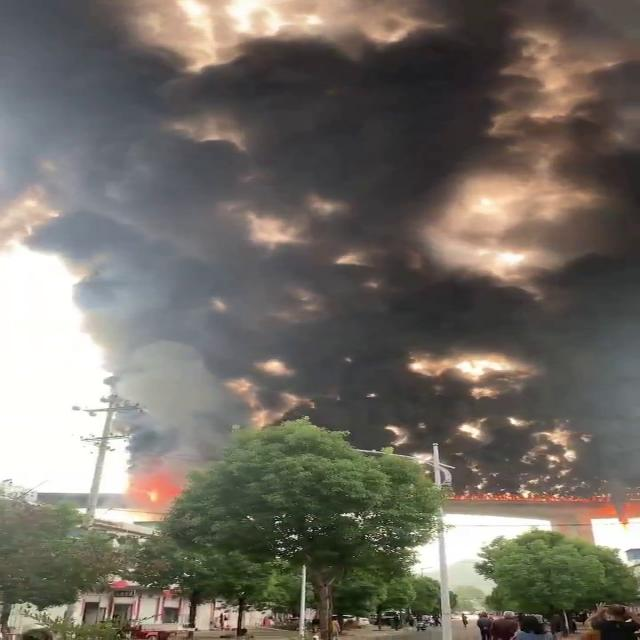Fire: (445, 492, 625, 519), (117, 464, 191, 515)
Smoke: (20, 0, 640, 496)
